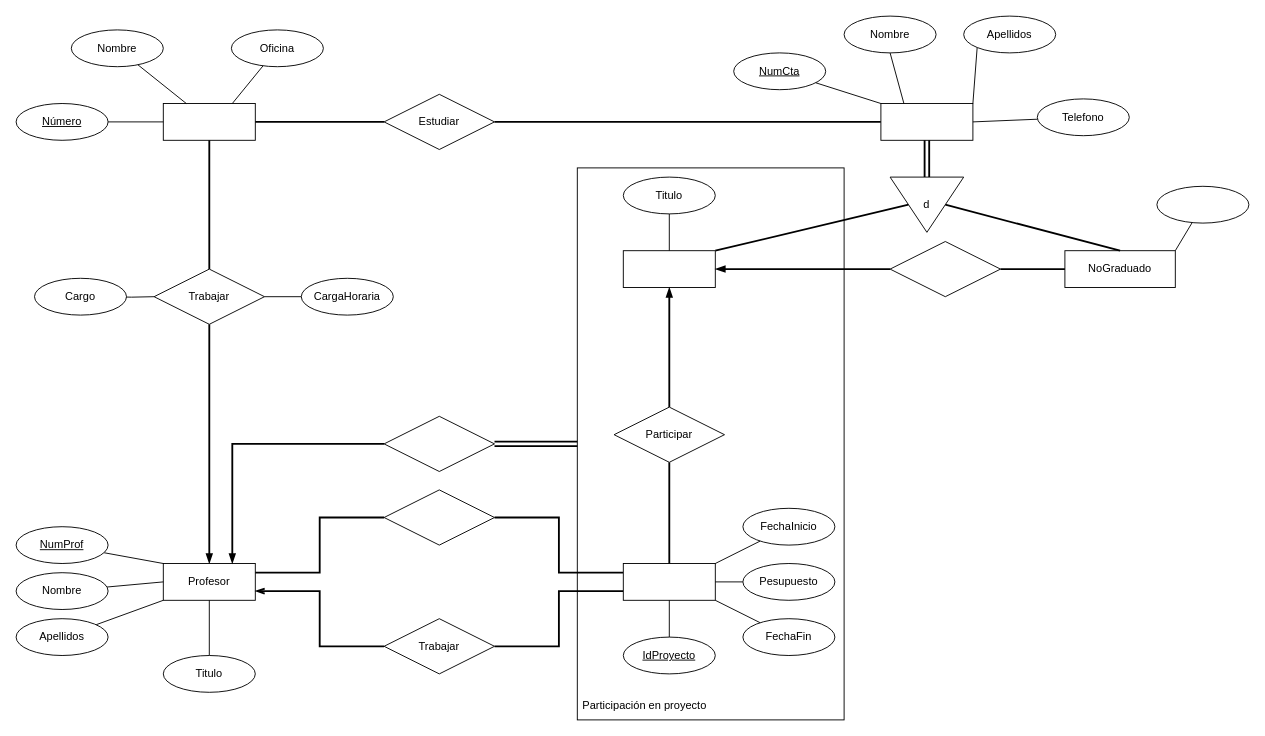
Some shapes in this 1265 by 736 pixel diagram are drawn without their labels. Here are the shapes that lost their labels. From the top down, the centre of each, then its label:
At [208,121]: "Departamento".
At [926,121]: "Alumno".
At [1202,204]: "NumExpediente".
At [668,269]: "Graduado".
At [944,269]: "Tutoriza".
At [438,443]: "Supervisar".
At [438,517]: "Administrar".
At [668,581]: "Proyecto".
